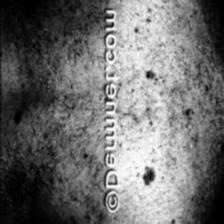Potentially Malignant Skin Tumors: (138, 41, 222, 132), (131, 148, 161, 196), (8, 96, 24, 138)
